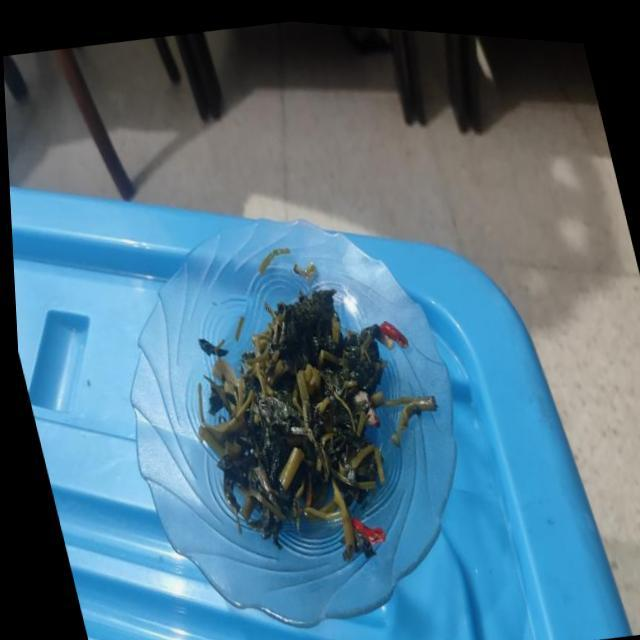tumis_kangkung: (199, 288, 436, 562)
